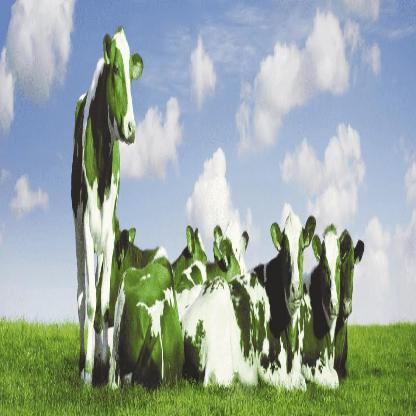cow: (71, 24, 144, 390), (180, 211, 316, 396), (92, 213, 185, 392), (297, 222, 352, 392), (332, 227, 365, 374), (170, 223, 208, 292), (205, 222, 242, 281), (226, 214, 250, 275)
